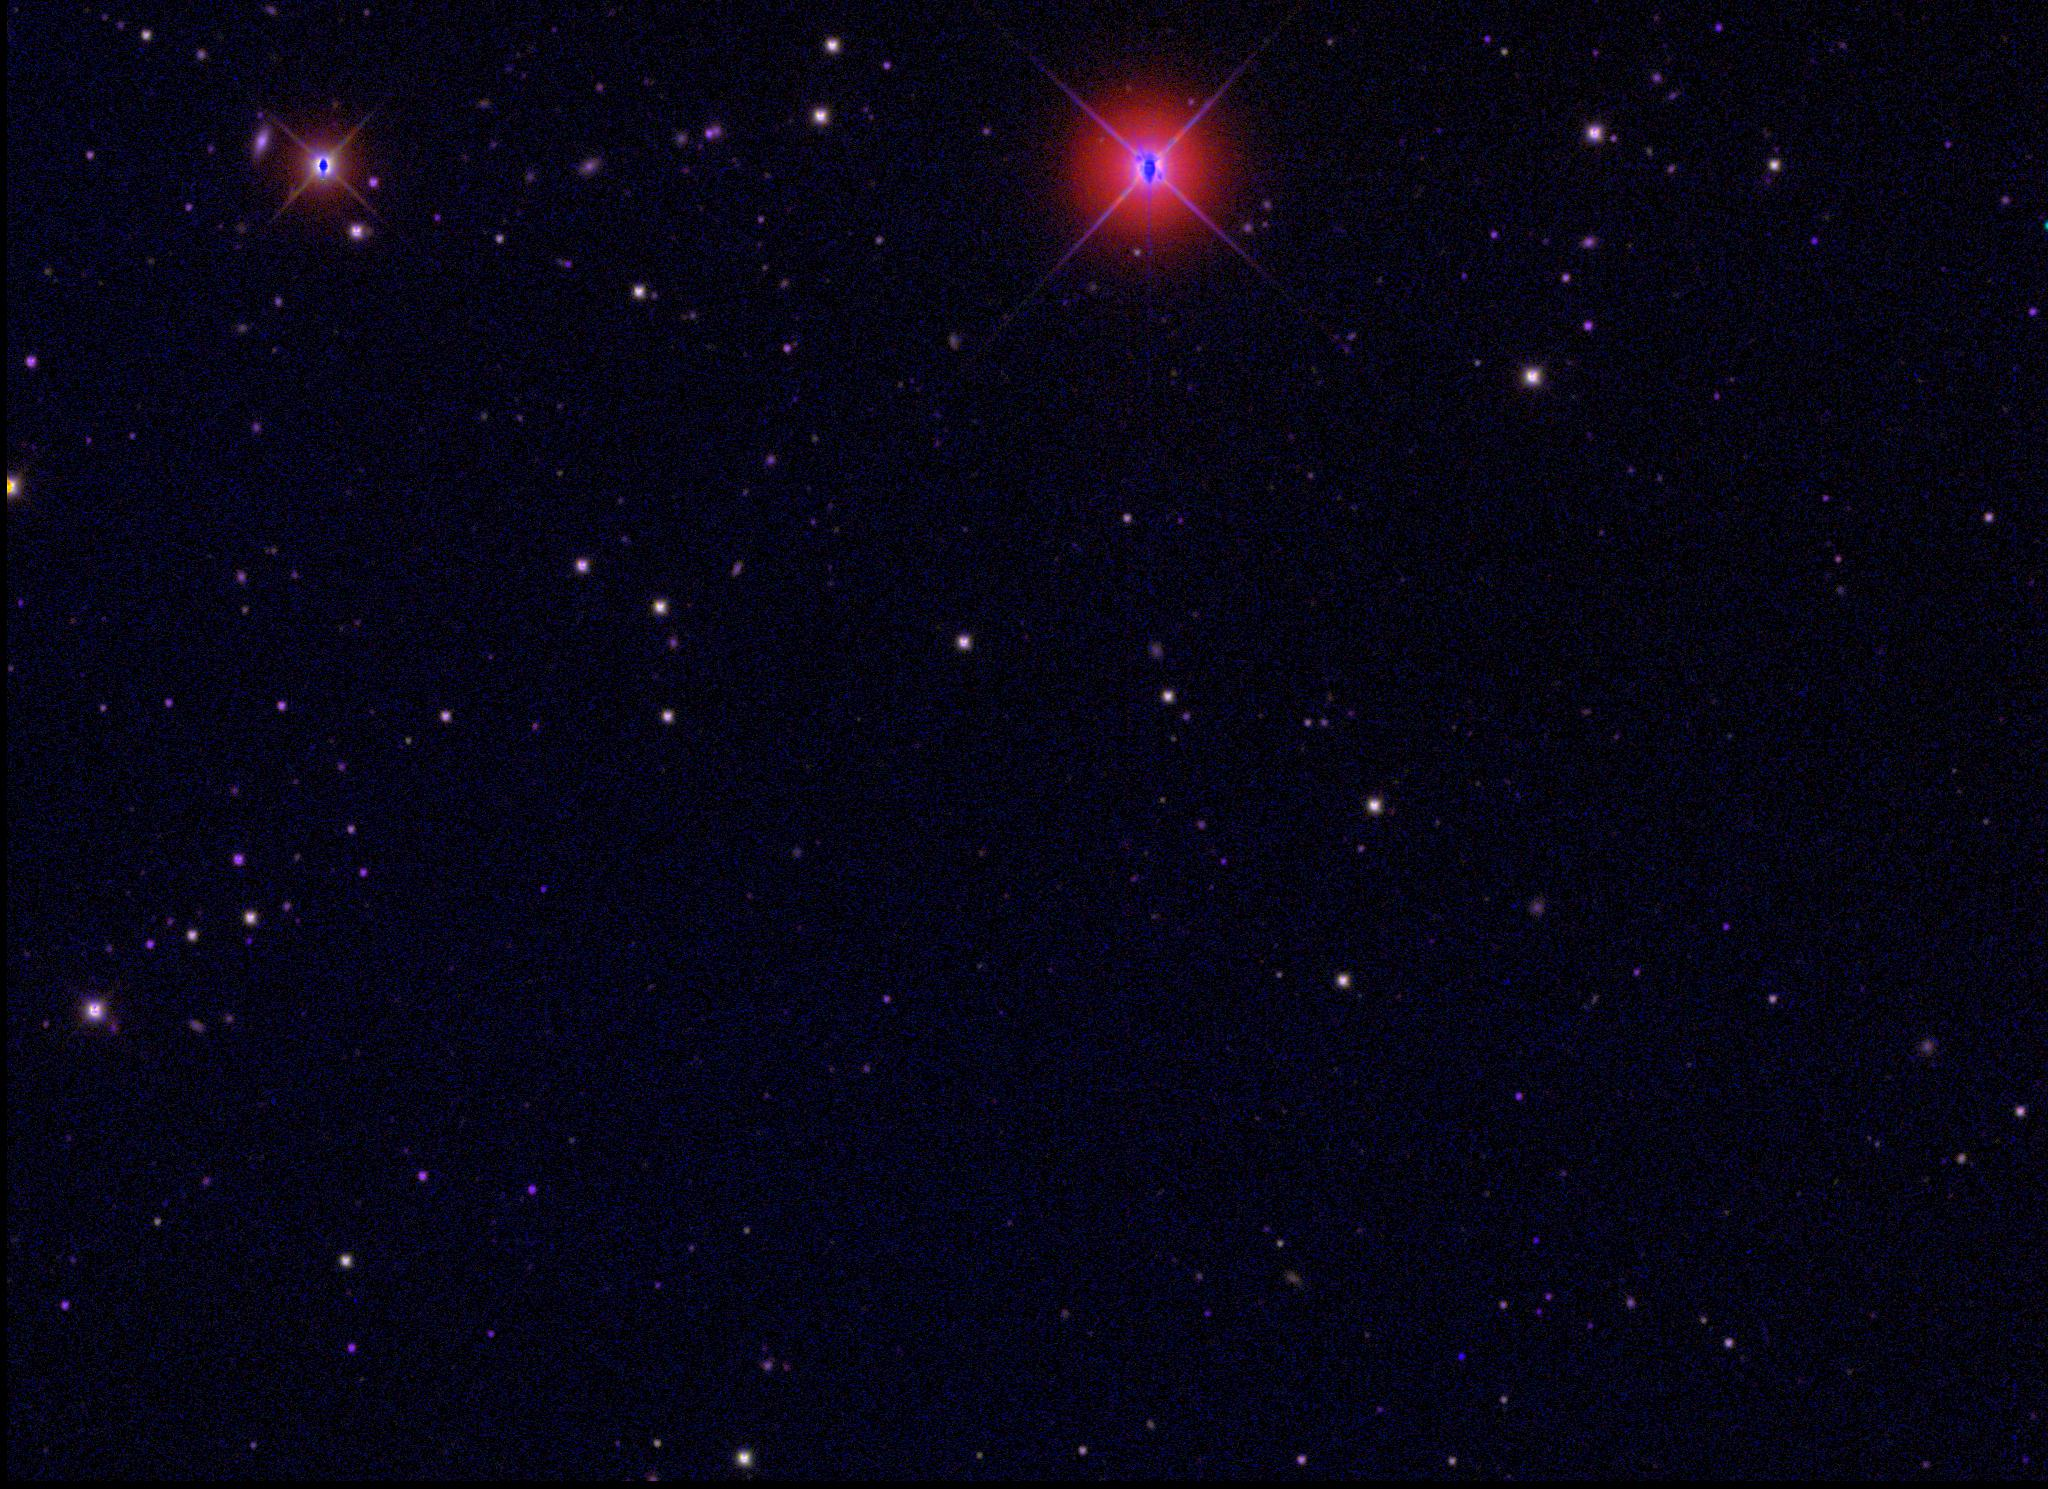L: (1453, 1351, 1468, 1363)
